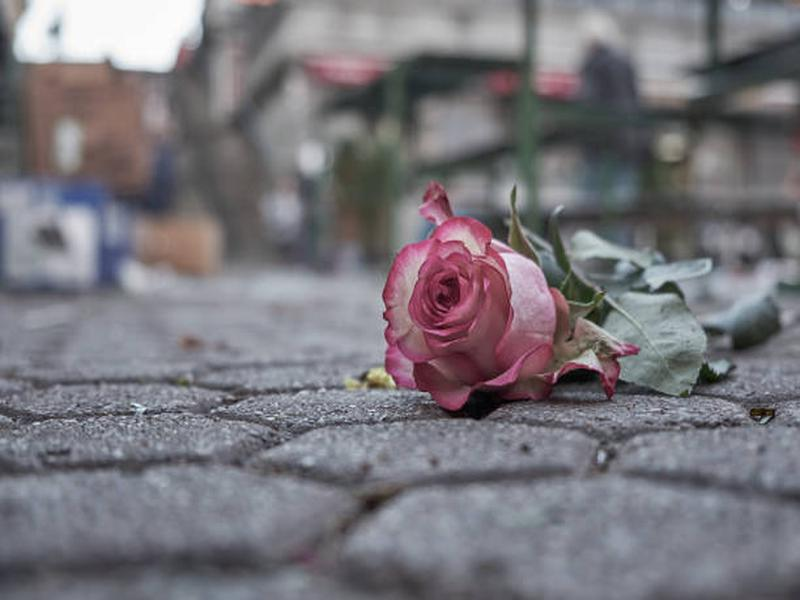flowers: (368, 167, 635, 425)
leaf: (604, 290, 721, 403)
